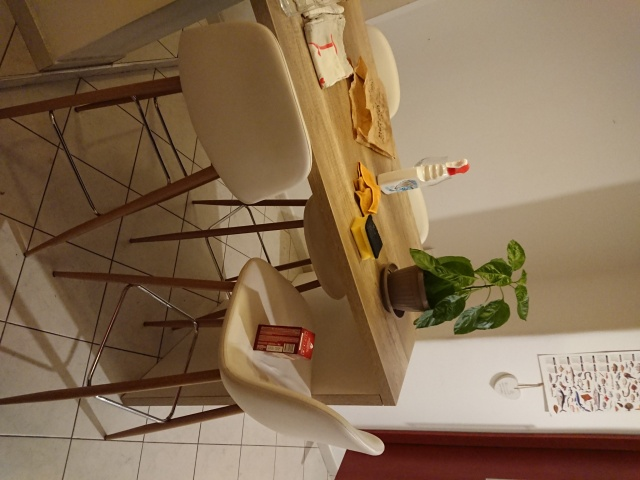Franck Apple Cinnamon Tea 60g: (250, 322, 318, 362)
